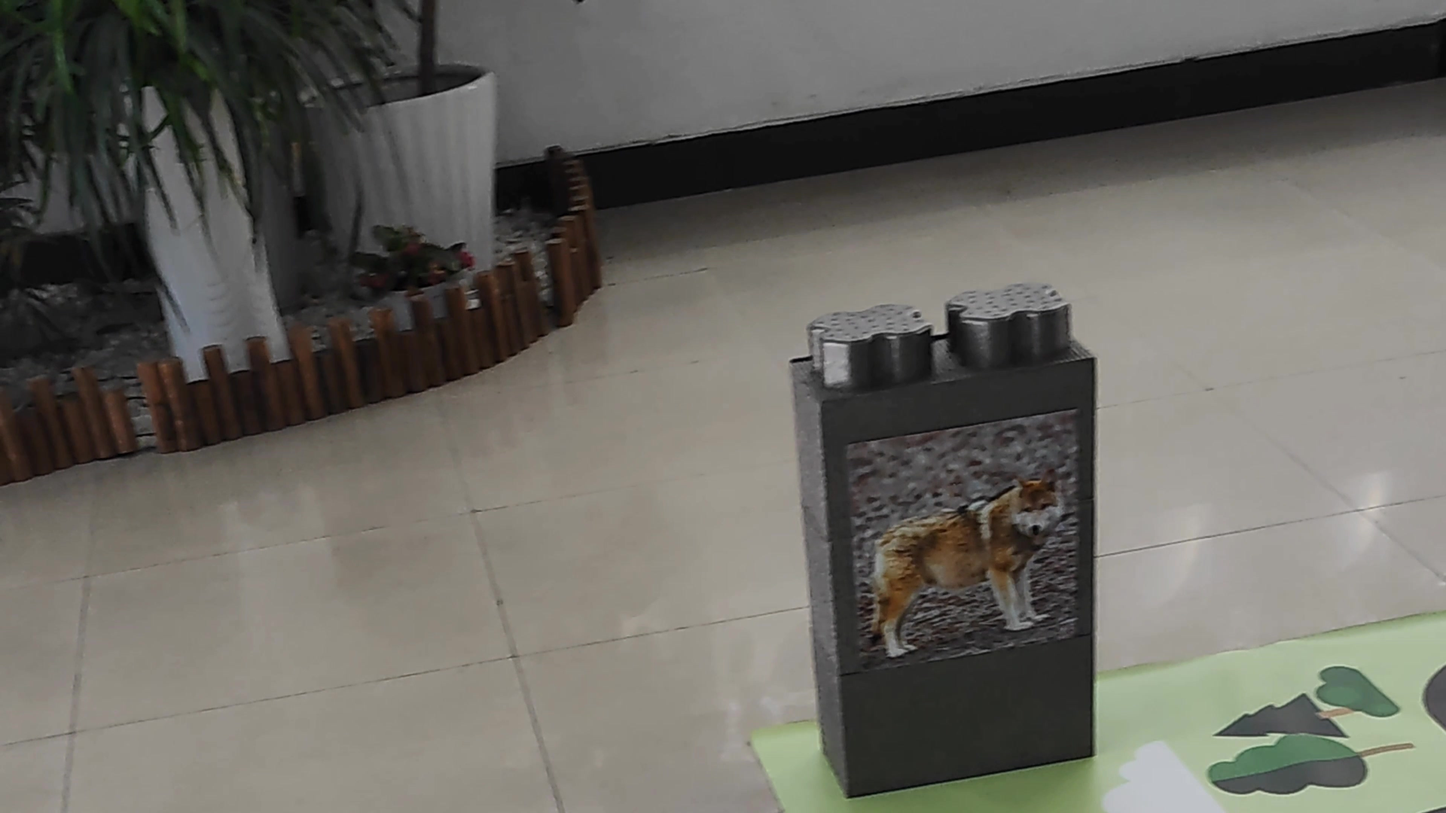wolf: (861, 439, 1082, 668)
